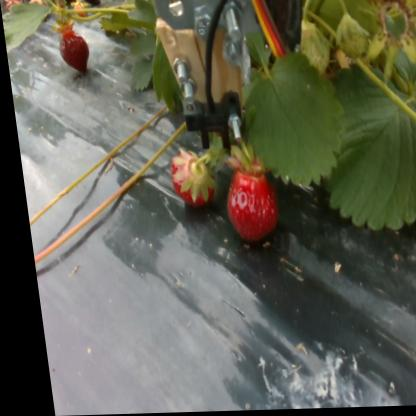ripe: (219, 171, 274, 242), (164, 157, 210, 205), (55, 33, 90, 71)
unripe: (296, 23, 331, 76), (334, 20, 367, 64)
